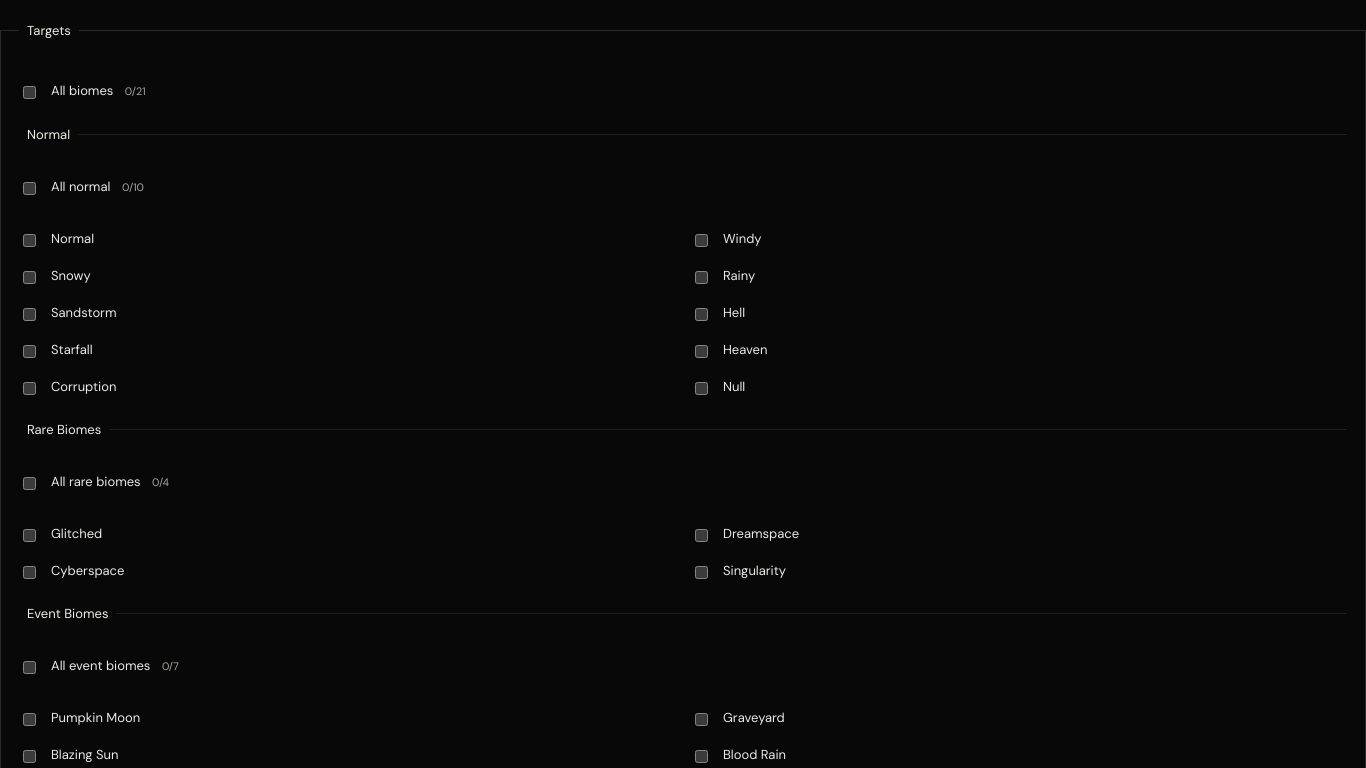
Test: bulk toggles select all, clear all, and indicate partial selections
Step 1. Click the checkbox labelled "Normal" → (30, 240), box [23, 234, 36, 247]
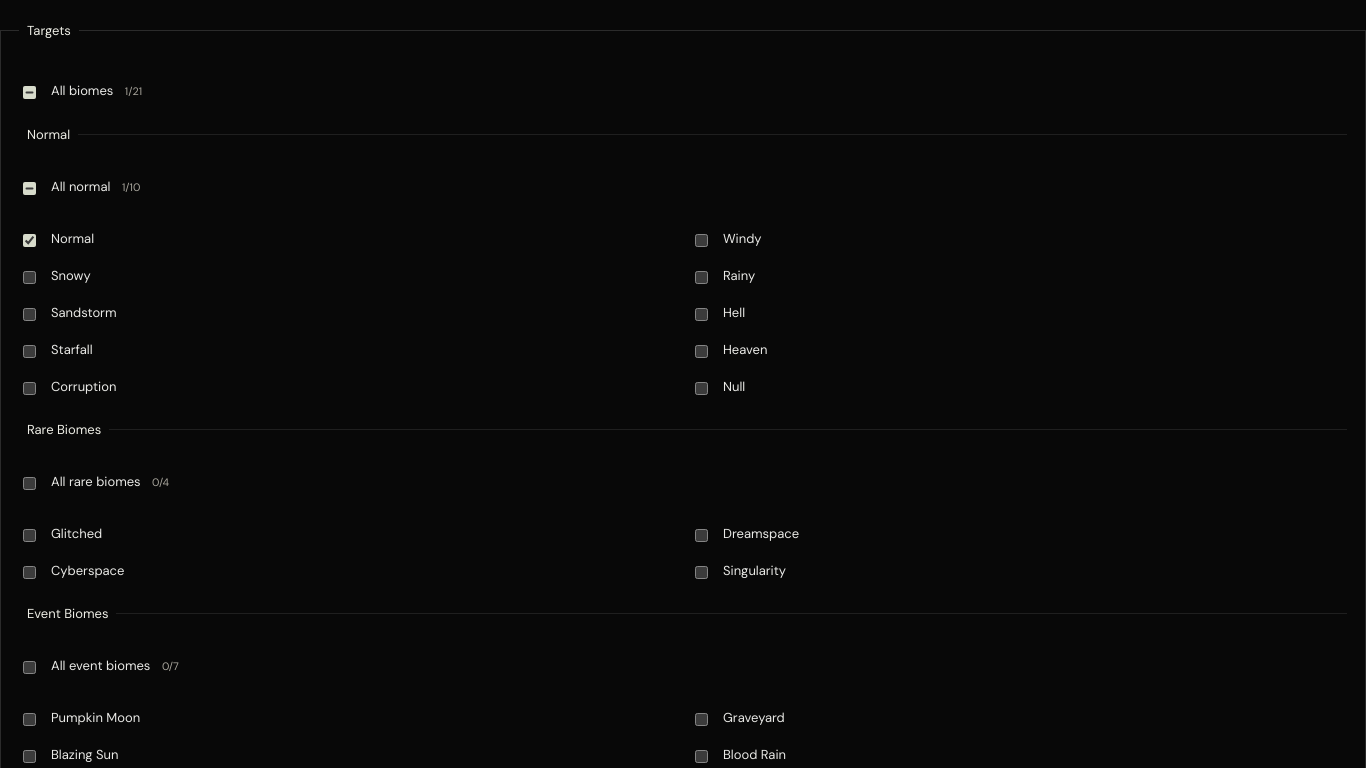
Step 2. Click the checkbox labelled "All biomes" → (30, 92), box [23, 86, 36, 99]
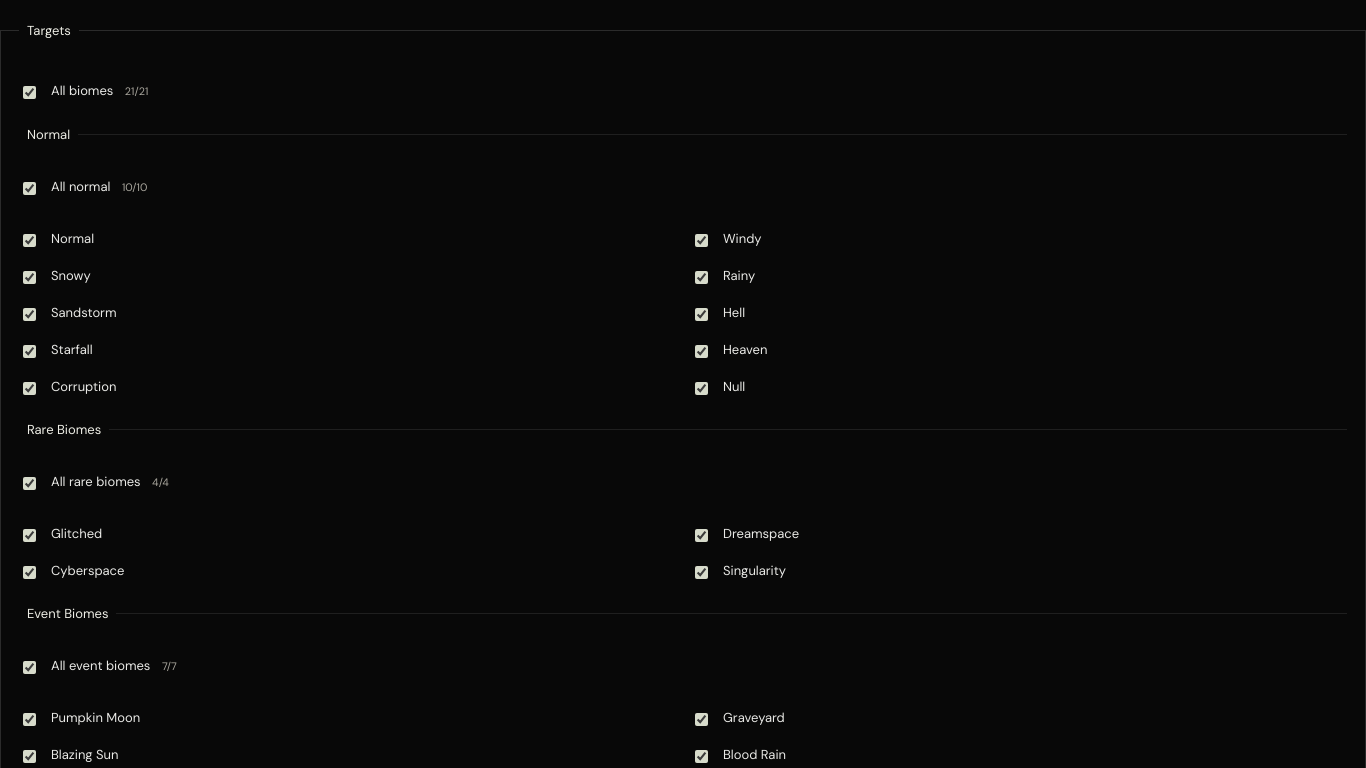
expect the checkbox labelled "Normal" is checked: met, box [23, 234, 36, 247]
expect the checkbox labelled "Windy" is checked: met, box [695, 234, 708, 247]
expect the checkbox labelled "Snowy" is checked: met, box [23, 271, 36, 284]
Step 3. Click the checkbox labelled "All biomes" → (30, 92), box [23, 86, 36, 99]
(page scrolled)
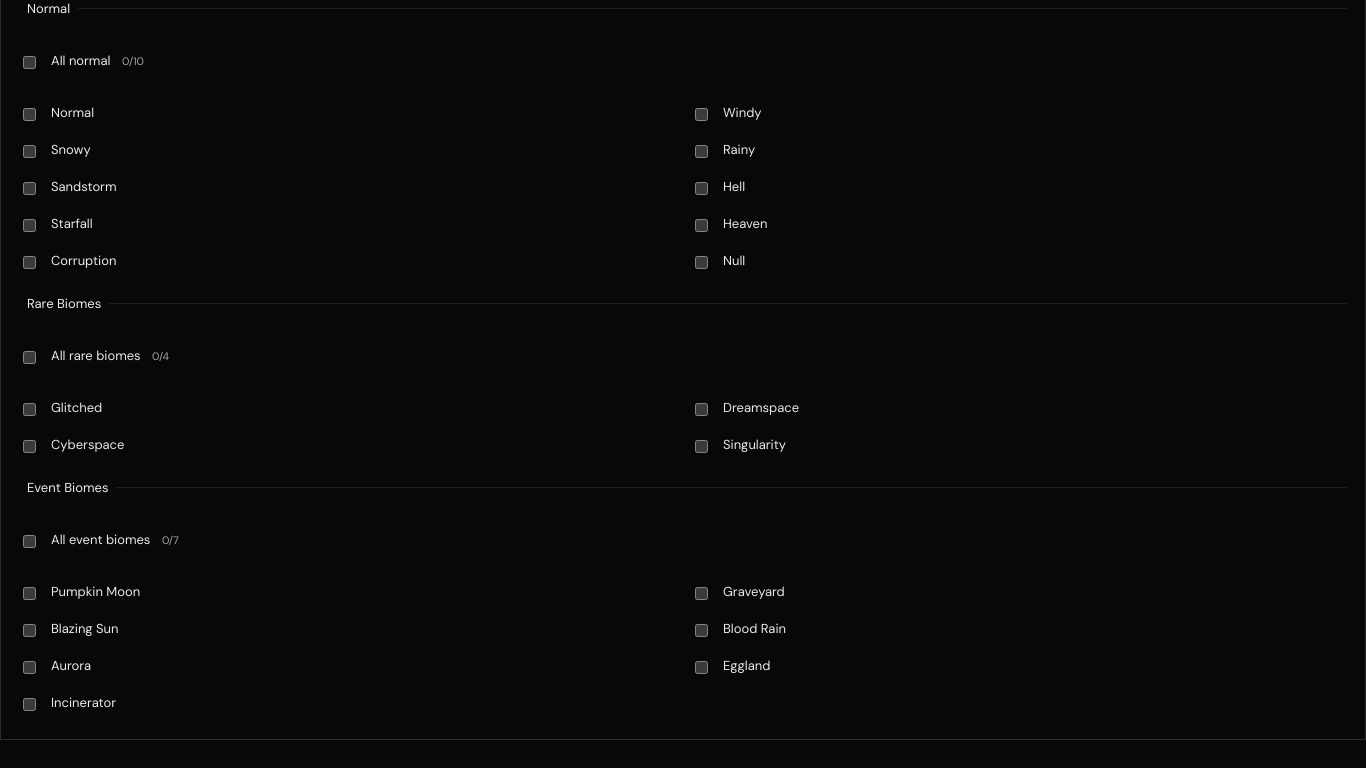
expect the checkbox labelled "Normal" is not checked: met, box [23, 108, 36, 121]
expect the checkbox labelled "Windy" is not checked: met, box [695, 108, 708, 121]
expect the checkbox labelled "Snowy" is not checked: met, box [23, 145, 36, 158]
